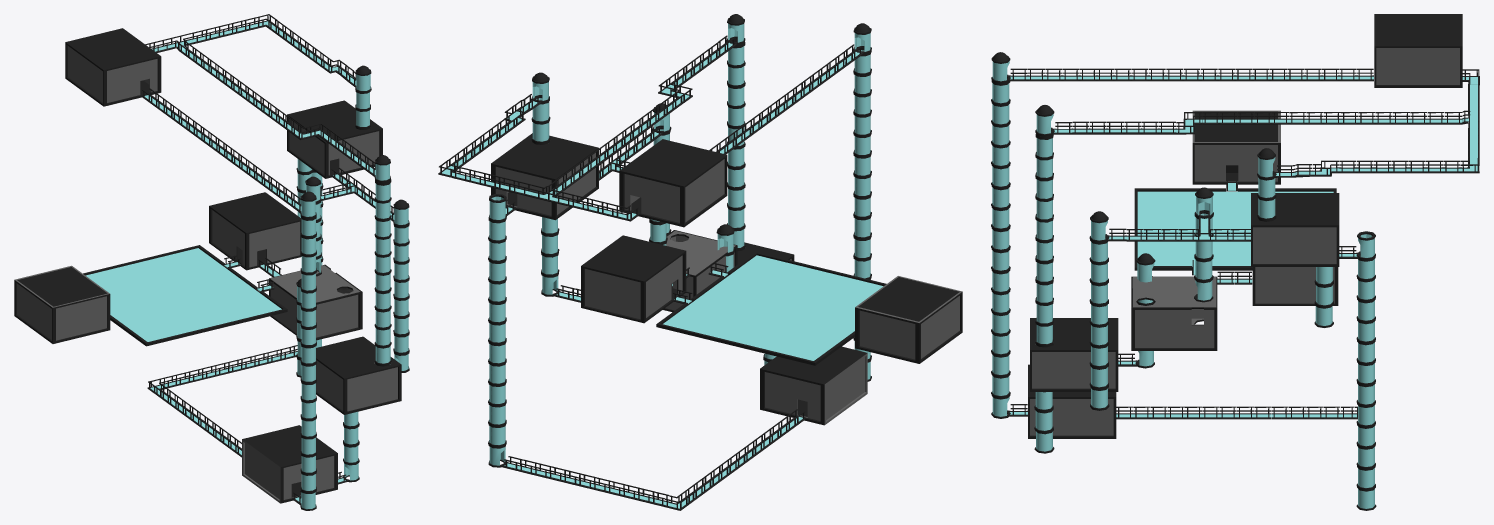
The model's file is LD_zup.FBX.
The picture shows the model from 3 angles, left to right: view 1: azimuth 30°, elevation 25°; view 2: azimuth 150°, elevation 25°; view 3: azimuth 270°, elevation 25°; orthographic projection. The views are drawn at different scales.
Visible parts, largest first — view 1: Box435, Salle TypeTrue004, Salle TypeTrue003, Salle Braquage 1, Salle B2, Salle T3, Salle TypeTrue002, Salle Tram 1; view 2: Box435, Salle TypeTrue004, Salle TypeTrue003, Salle Braquage 1, Salle T3, Salle TypeTrue002, Salle Tram 1; view 3: Box435, Salle TypeTrue003, Salle TypeTrue002, Salle Tram 1, Salle TypeTrue004, Salle B2, Salle T3, Salle Braquage 1.
Part boxes in pixels (left/top/right/bottom): Box435: left=83, top=245, right=287, bottom=346; Salle TypeTrue004: left=14, top=265, right=110, bottom=343; Salle TypeTrue003: left=65, top=28, right=161, bottom=106; Salle Braquage 1: left=209, top=192, right=301, bottom=270; Salle B2: left=316, top=336, right=401, bottom=414; Salle T3: left=242, top=425, right=337, bottom=503; Salle TypeTrue002: left=287, top=100, right=382, bottom=178; Salle Tram 1: left=269, top=264, right=362, bottom=340; Box435: left=656, top=252, right=886, bottom=365; Salle TypeTrue004: left=855, top=276, right=962, bottom=363; Salle TypeTrue003: left=619, top=139, right=727, bottom=227; Salle Braquage 1: left=581, top=235, right=686, bottom=323; Salle T3: left=760, top=346, right=867, bottom=425; Salle TypeTrue002: left=491, top=133, right=598, bottom=220; Salle Tram 1: left=663, top=230, right=737, bottom=312; Box435: left=1134, top=188, right=1336, bottom=270; Salle TypeTrue003: left=1374, top=14, right=1462, bottom=87; Salle TypeTrue002: left=1251, top=193, right=1339, bottom=266; Salle Tram 1: left=1131, top=276, right=1217, bottom=350; Salle TypeTrue004: left=1192, top=110, right=1280, bottom=184; Salle B2: left=1030, top=318, right=1118, bottom=391; Salle T3: left=1028, top=364, right=1116, bottom=438; Salle Braquage 1: left=1252, top=267, right=1338, bottom=305.
Bounding box in the file's own units: 1636 × 1696 × 1447.
